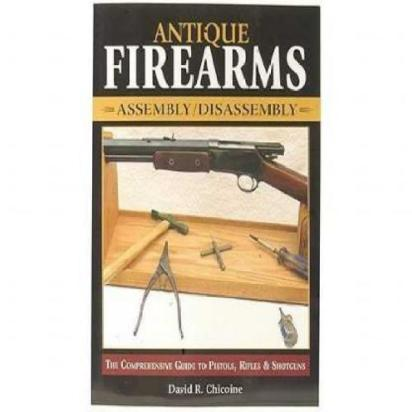Gun: (100, 120, 317, 209)
